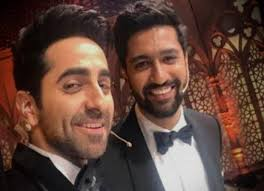Bad: (4, 1, 226, 191)
